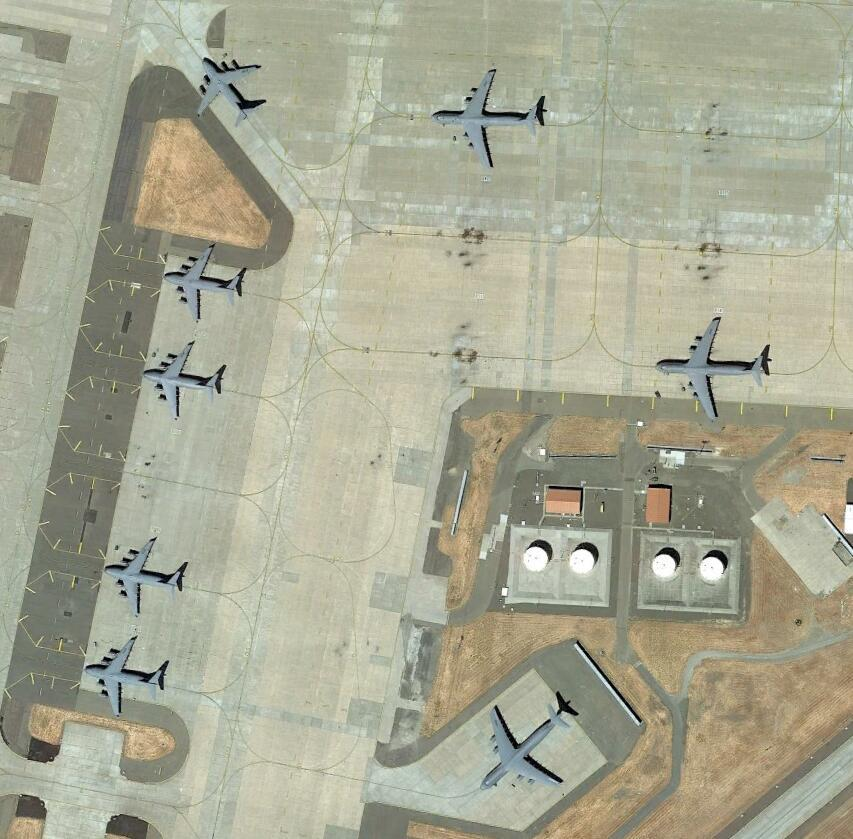A3: (139, 341, 224, 419), (82, 638, 164, 717), (162, 242, 240, 319), (105, 537, 180, 616), (192, 53, 262, 127)
A4: (655, 314, 769, 425), (430, 66, 539, 175), (478, 704, 567, 794)
